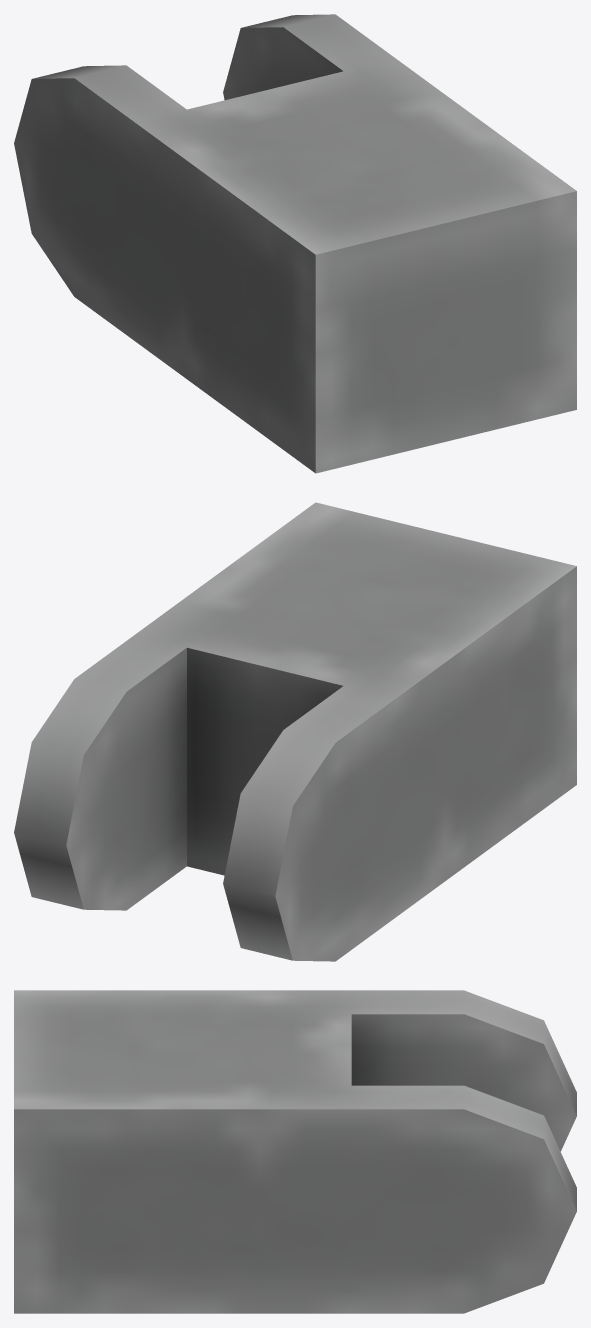
File: lepus_dish_antenna_srf_1_base.obj
The picture shows the model from 3 angles, top to bottom: view 1: azimuth 30°, elevation 25°; view 2: azimuth 150°, elevation 25°; view 3: azimuth 270°, elevation 25°; orthographic projection. The views are drawn at different scales.
Visible parts, largest first — view 1: lepus_dish_antenna_srf_1_base; view 2: lepus_dish_antenna_srf_1_base; view 3: lepus_dish_antenna_srf_1_base.
Boxes of the visible parts, box(x1,y1,x2,y2) form: lepus_dish_antenna_srf_1_base: box(14, 14, 576, 473); lepus_dish_antenna_srf_1_base: box(14, 502, 576, 961); lepus_dish_antenna_srf_1_base: box(14, 990, 576, 1313).
Bounding box in the file's own units: 0.0625 × 0.05 × 0.125.
